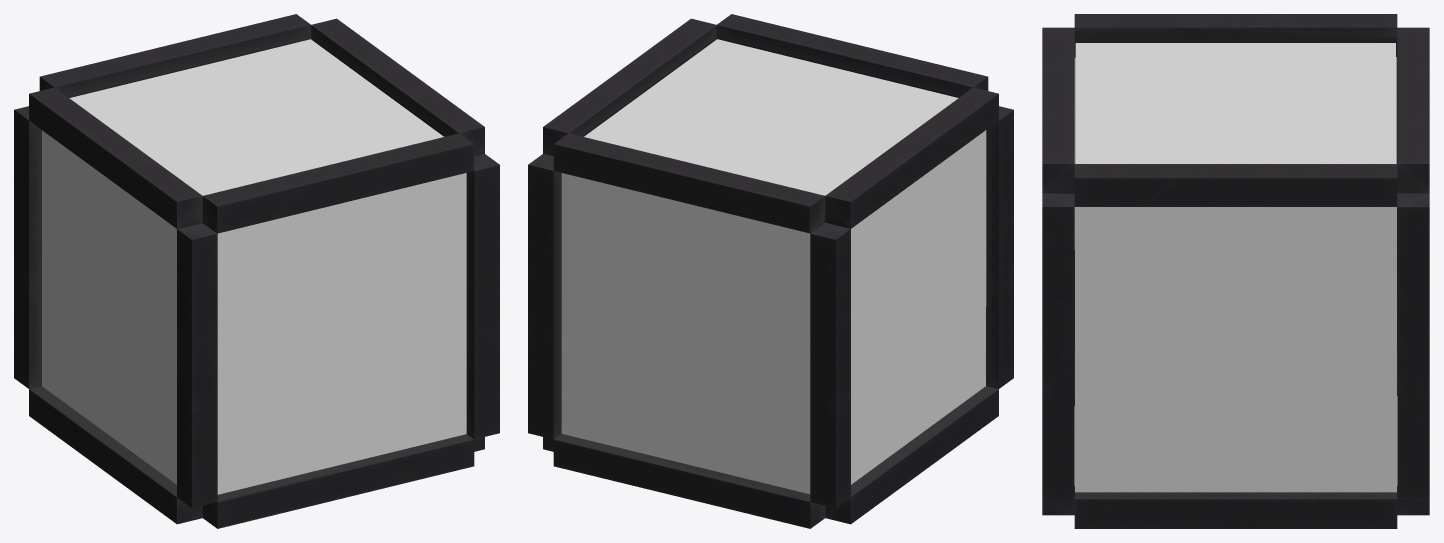
File: DROP 1.fbx
The picture shows the model from 3 angles, left to right: view 1: azimuth 30°, elevation 25°; view 2: azimuth 150°, elevation 25°; view 3: azimuth 270°, elevation 25°; orthographic projection. The views are drawn at different scales.
Visible parts, largest first — view 1: Cube; view 2: Cube; view 3: Cube.
Boxes of the visible parts, x1,y1,x2,y2 form: Cube: [14, 14, 499, 528]; Cube: [528, 14, 1013, 528]; Cube: [1042, 14, 1429, 528].
Bounding box in the file's own units: 200 × 200 × 200.
